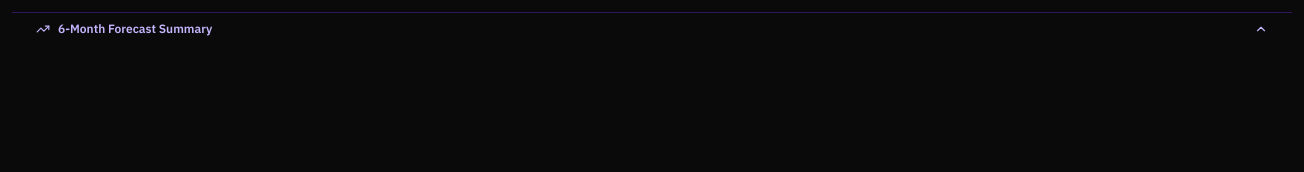
ForecastSummaryPanel › number formatting › formats grams >= 1000 as kg with one decimal
Click the button "6-Month Forecast Summary" at (135,28), box [12,13,1292,45]
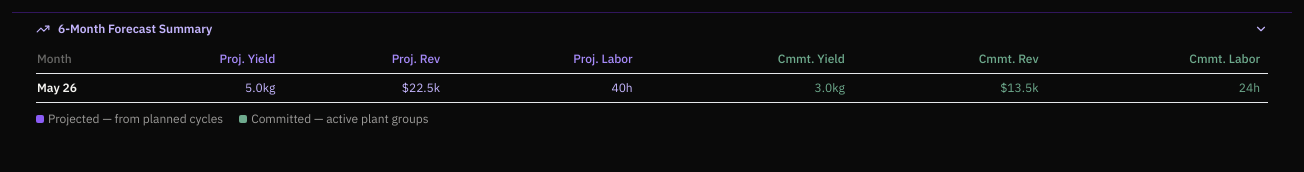
Expected: the table is shown, [36,45,1268,103]
Expected: the text "5.0kg" is shown, [100,74,283,102]
